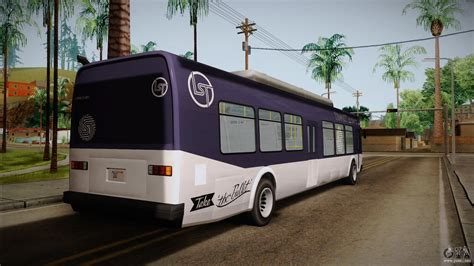bus: (73, 64, 364, 225)
